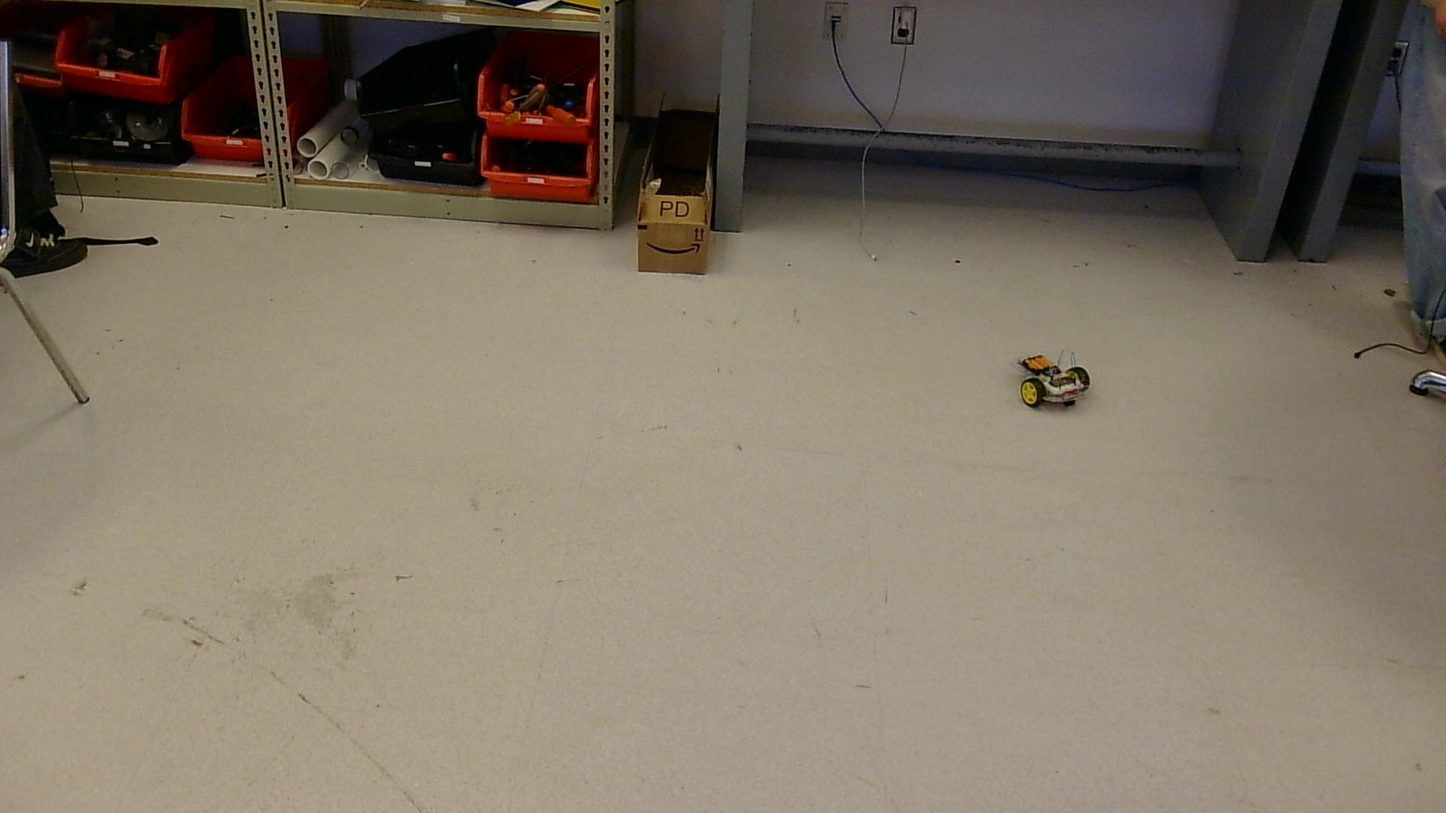robot: (1017, 355, 1091, 407)
